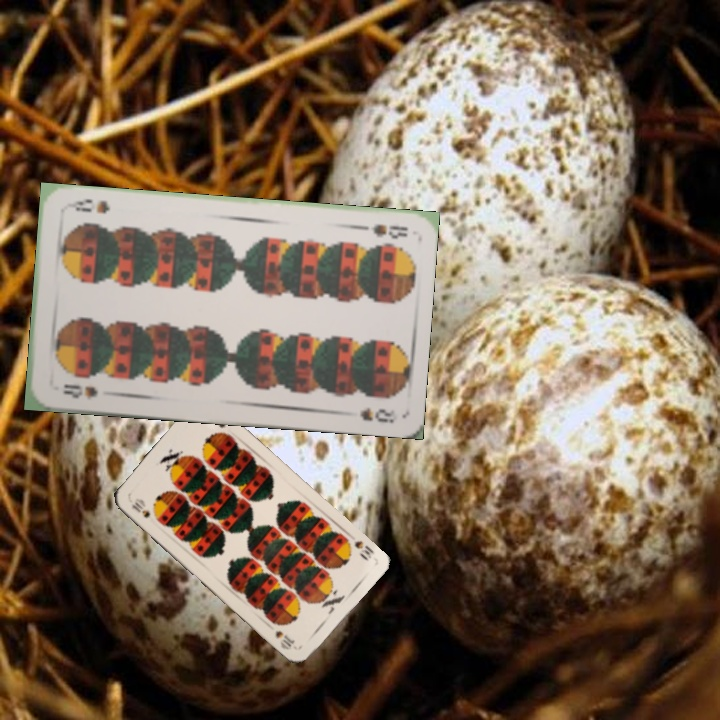S10: (350, 536, 377, 563), (127, 498, 153, 521)
S8: (353, 220, 411, 242), (59, 380, 100, 401)
